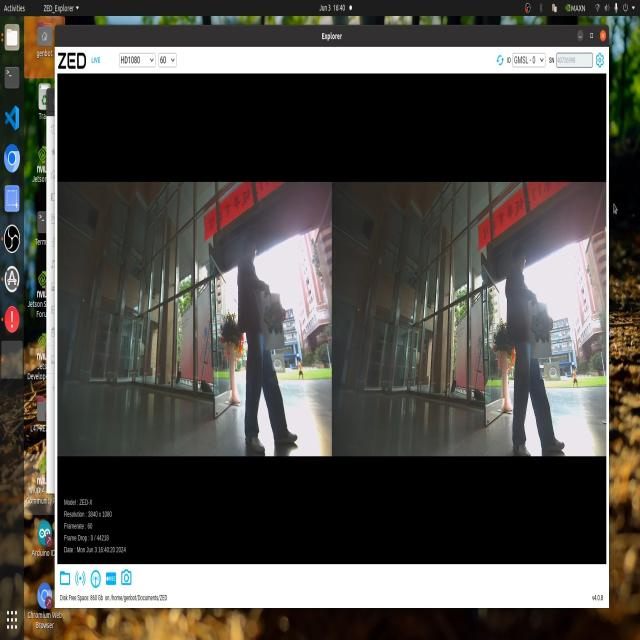green: (260, 298, 288, 340), (529, 312, 555, 347)
